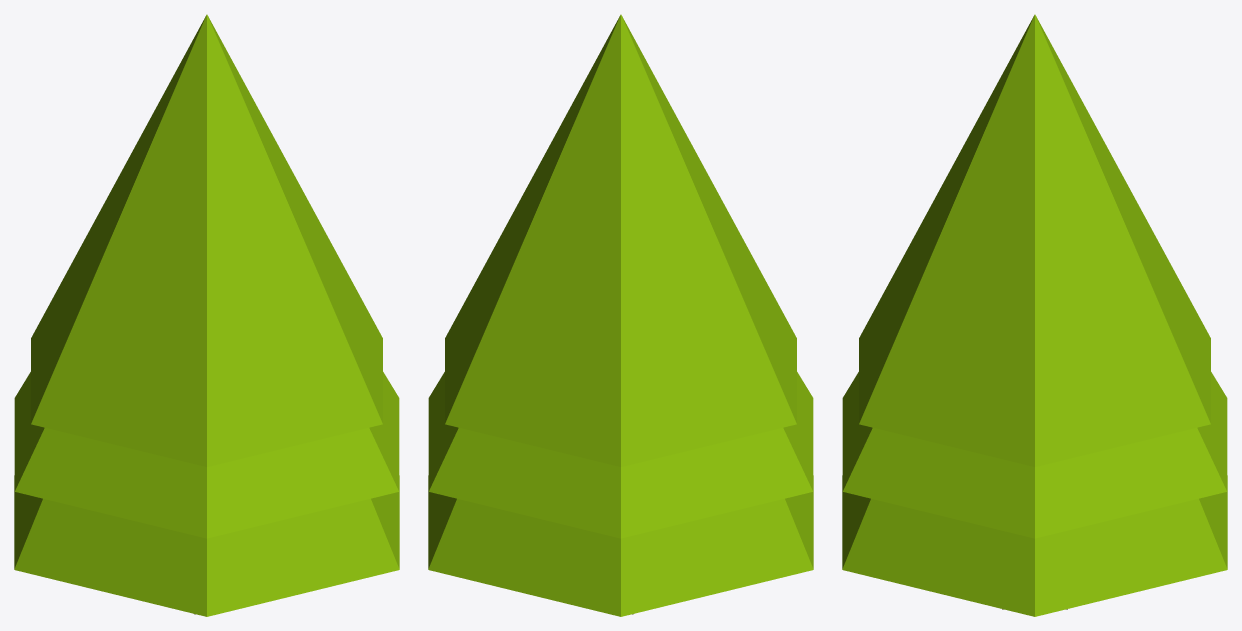
Rendered from pine_5.fbx.
The picture shows the model from 3 angles, left to right: view 1: azimuth 30°, elevation 25°; view 2: azimuth 150°, elevation 25°; view 3: azimuth 270°, elevation 25°; orthographic projection.
Visible parts, largest first — view 1: pine_5; view 2: pine_5; view 3: pine_5.
Boxes of the visible parts, left/top/right/bottom form: pine_5: left=14, top=14, right=399, bottom=616; pine_5: left=428, top=14, right=813, bottom=616; pine_5: left=842, top=14, right=1227, bottom=616.
Bounding box in the file's own units: 185 × 267 × 160.
